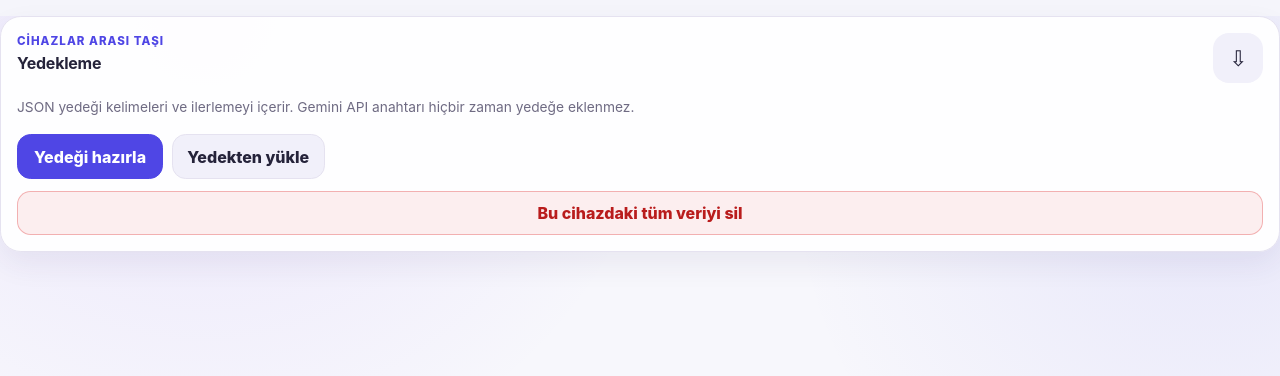
yedek paneli › kelime listesi değişince hazırlanmış eski yedeği iptal eder
The width and height of the screenshot is (1280, 376).
Later steps or results of the test are not shown.
What coordinates should you click on to do the following:
click the button "Yedeği hazırla"
I would click on:
 (90, 156)
Its box is [17,134,163,179].
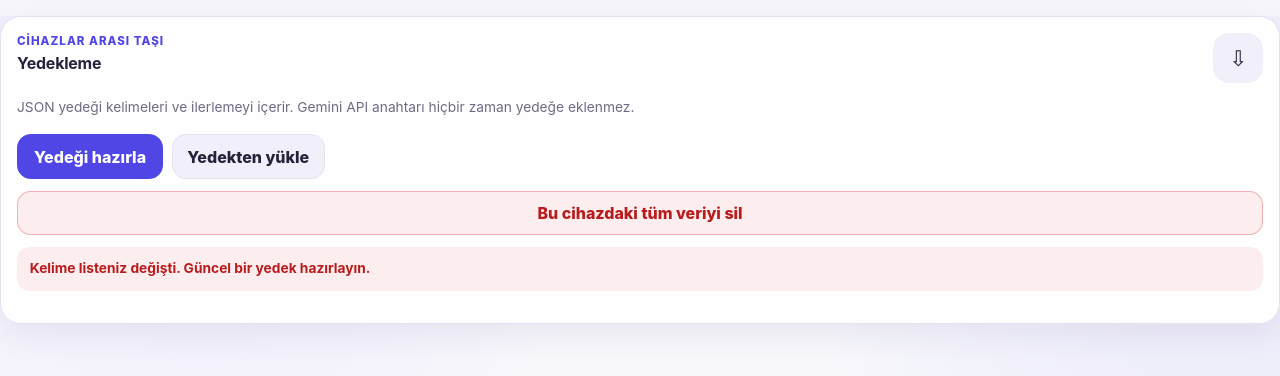
Now the text "Kelime listeniz değişti. Güncel bir yedek hazırlayın." is shown, box [17,247,1263,291]
